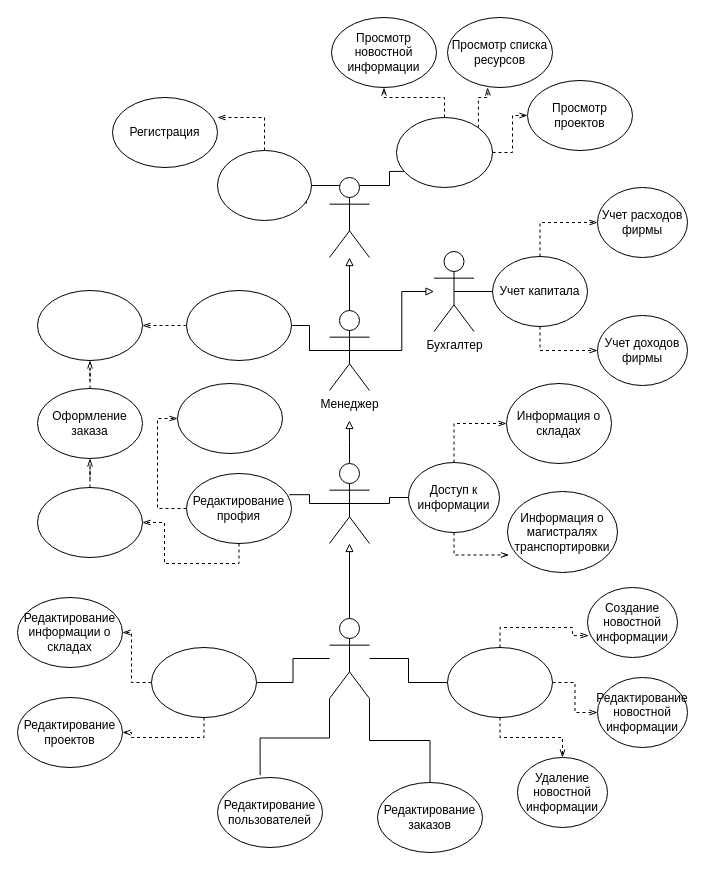
Some shapes in this 705 by 870 pixel diagram are drawn without their labels. The shapes that lost their labels are listed below. From the top down, each one's centre as x and y in pixels, then its label:
At pixel 444 152: "Просмотр информации".
At pixel 264 185: "Логин".
At pixel 349 217: "Гость".
At pixel 89 325: "Заключение контракта".
At pixel 239 325: "Подтверждение заказа".
At pixel 229 418: "Удалить аккаунт".
At pixel 89 522: "Подтверждение учетной записи".
At pixel 349 503: "Аутифицированный".
At pixel 349 658: "Админ".
At pixel 203 682: "Редактирование информации".
At pixel 499 682: "Работа с новостной информацией".
